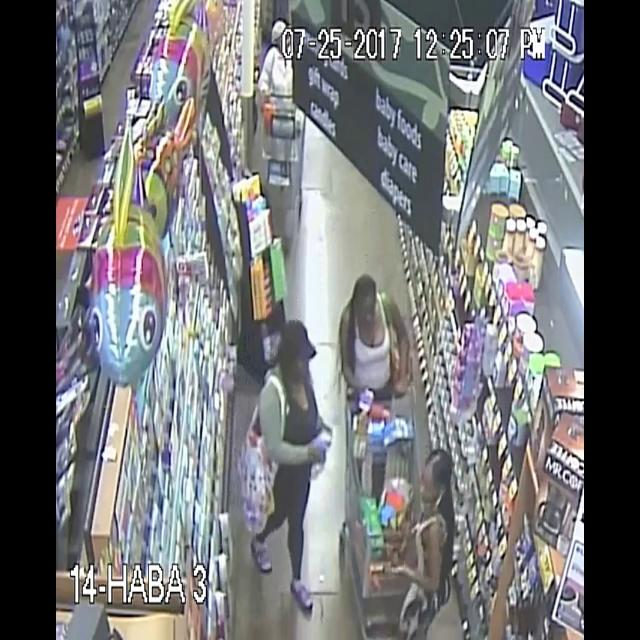normal: (226, 311, 339, 638), (388, 451, 483, 640), (334, 274, 435, 424)
